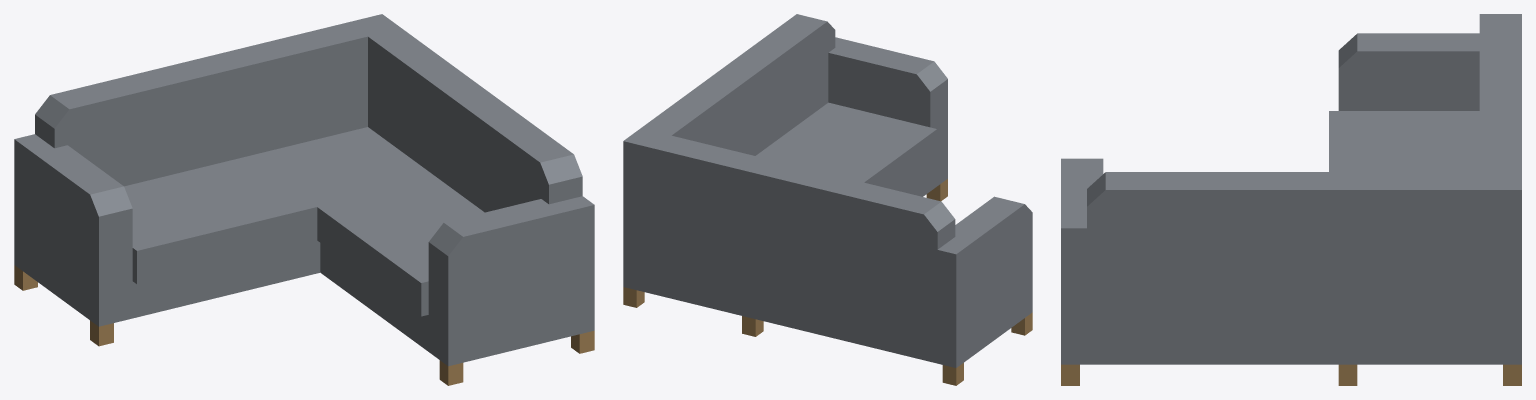
Rendered from sofa_corner.glb.
3 renders of one model, left to right at view 1: azimuth 30°, elevation 25°; view 2: azimuth 150°, elevation 25°; view 3: azimuth 270°, elevation 25°, orthographic. The views are drawn at different scales.
Parts seen in each view (by area): view 1: sofa_corner; view 2: sofa_corner; view 3: sofa_corner.
Boxes of the visible parts, x1=… form: sofa_corner: x1=14, y1=14, x2=594, y2=385; sofa_corner: x1=623, y1=14, x2=1032, y2=385; sofa_corner: x1=1061, y1=14, x2=1521, y2=385.
Size of the model in its own units: 1.96 by 0.92 by 1.96.
